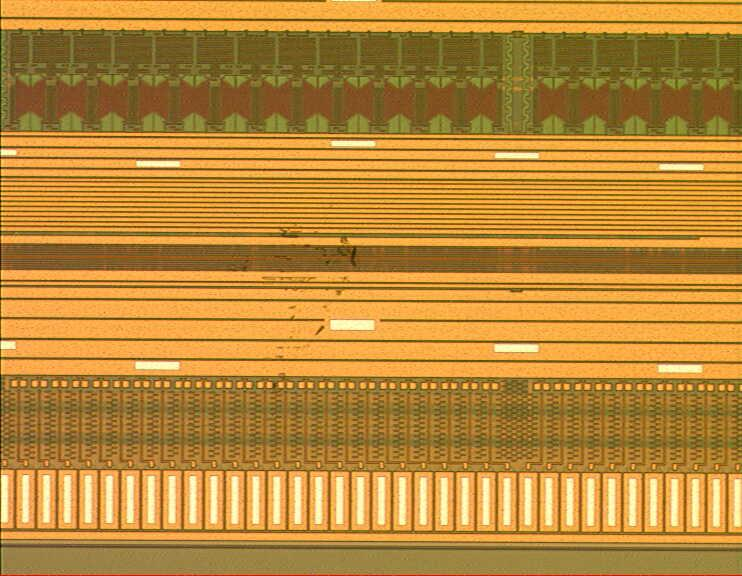PO CONTAMINATION: (223, 216, 367, 398)
